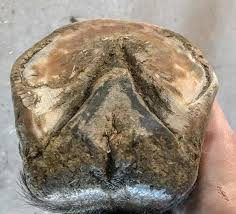horsesole: (10, 17, 219, 131)
